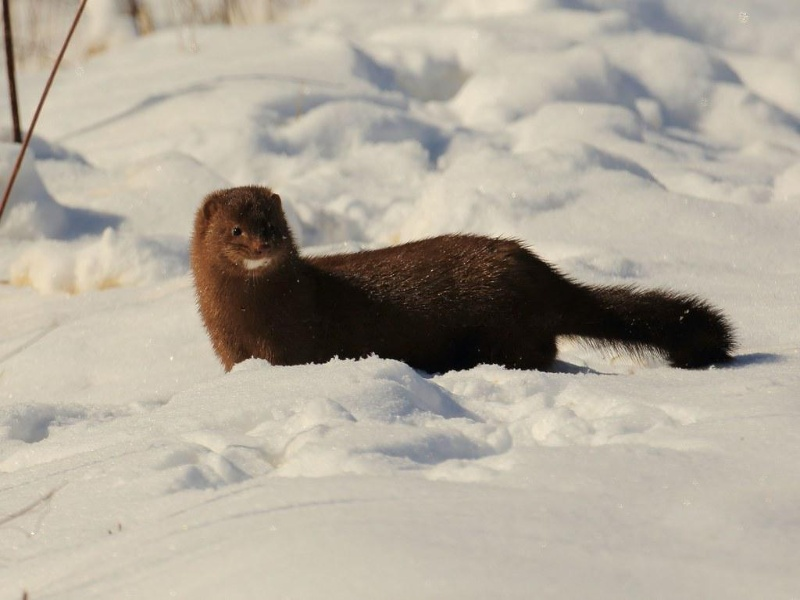minkish: (188, 184, 738, 380)
